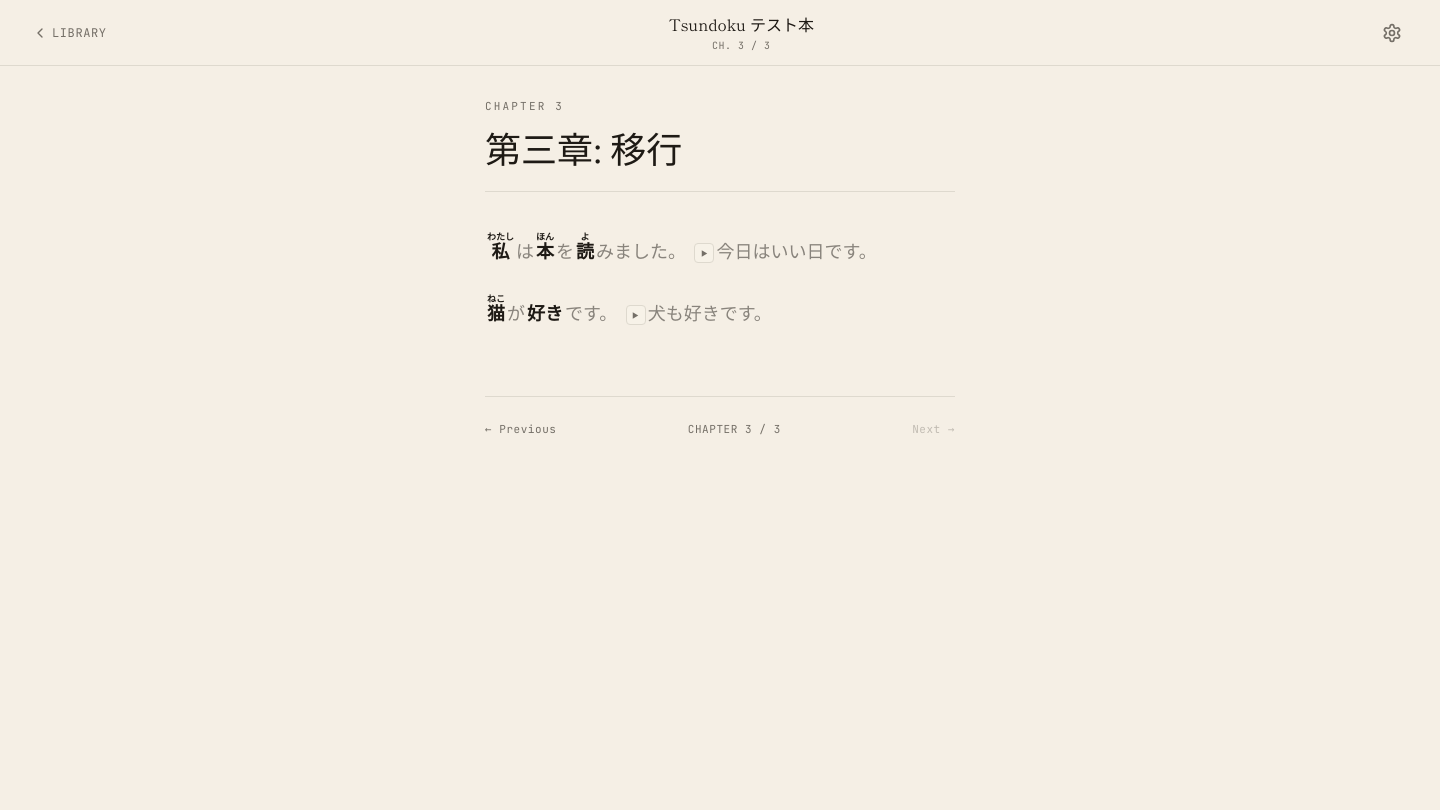
Test: Reader › sentence help › opens the vocabulary popup on a token while the same sentence has its panel open
This screenshot has width=1440, height=810.
Click the button named "translation for p0-s0" at (704, 253), box [694,243,714,263]
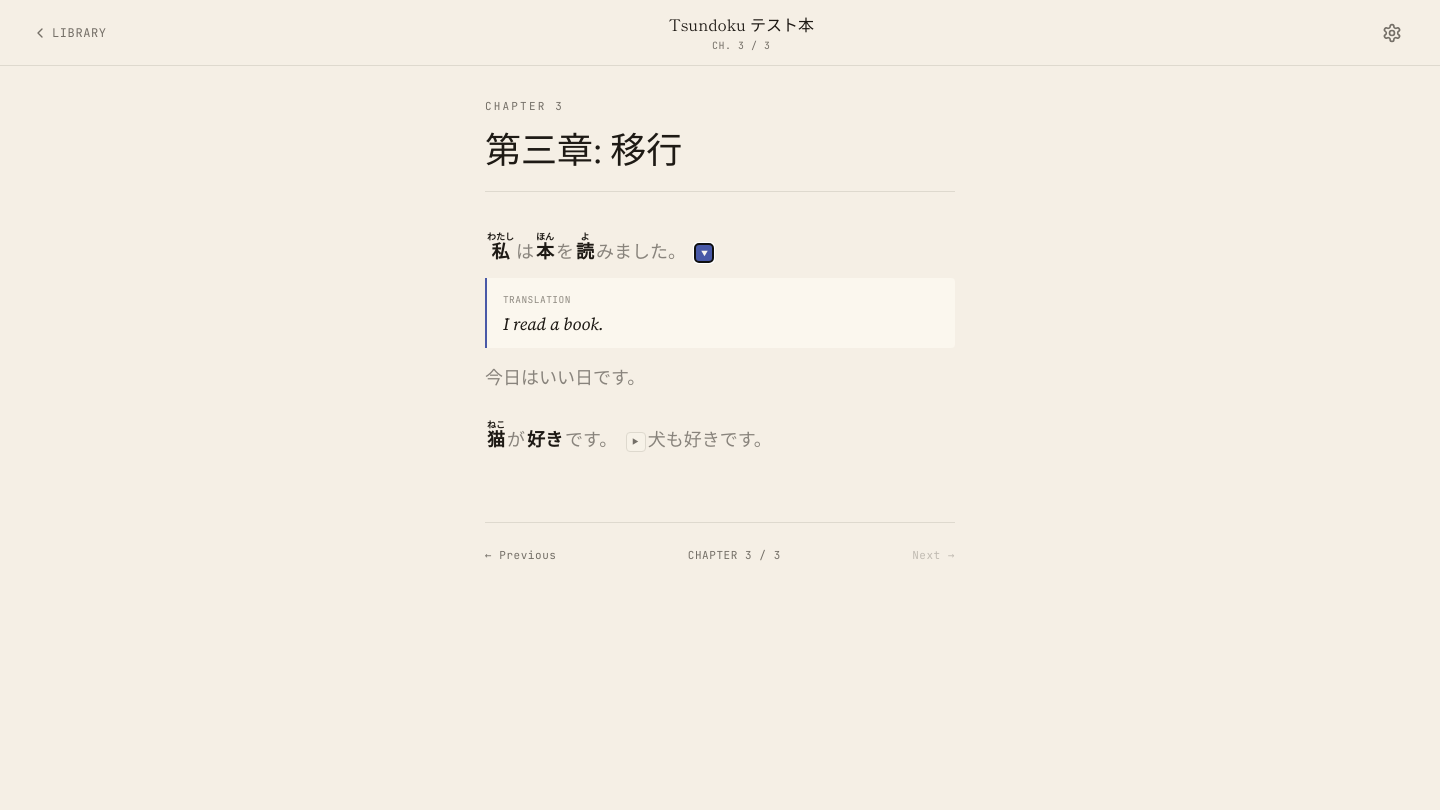
Check: the element named "sentence help for p0-s0" is shown, box [485,278,955,348]
Click the button "私 わたし" at (500, 250), box [485,232,516,270]
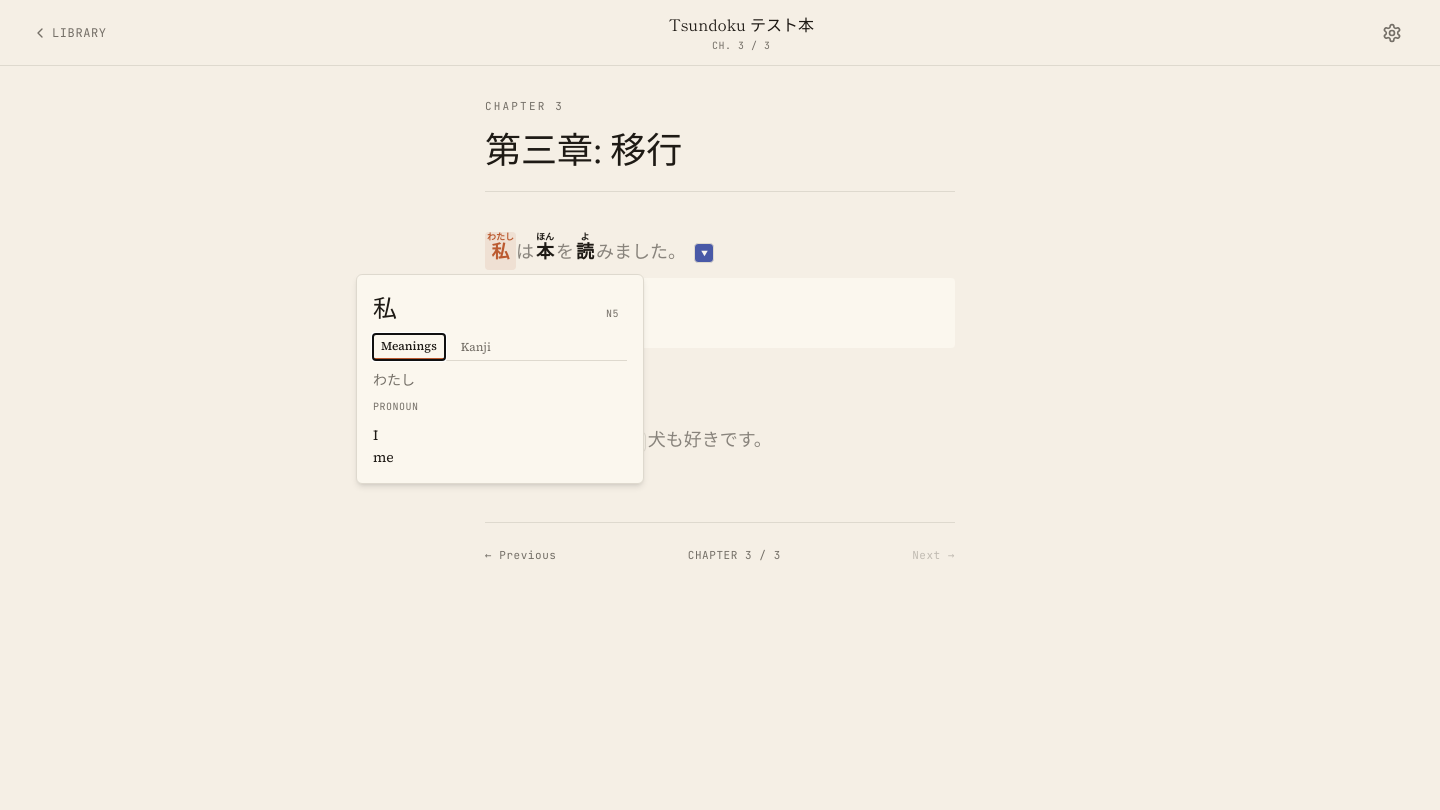
Check: the element named "sentence help for p0-s0" is shown, box [485,278,955,348]
Check: the list item "I" is shown, box [373,425,378,445]
